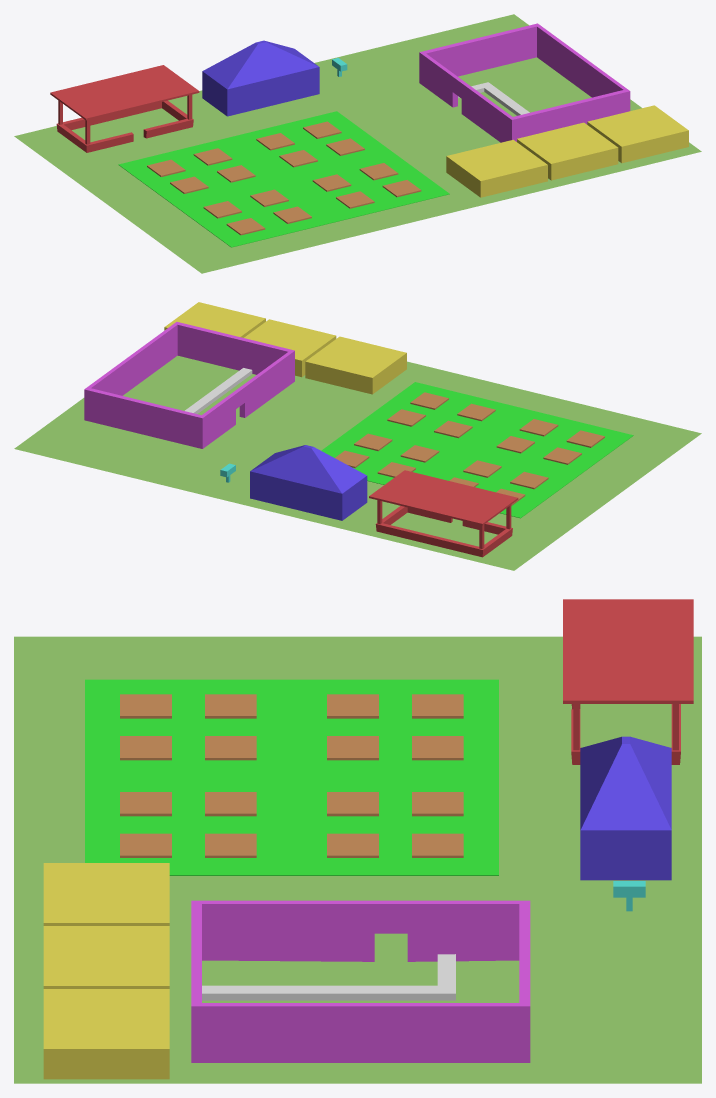
Rendered from blocagem.fbx.
3 views of the same model, one above another, from view 1: azimuth 30°, elevation 25°; view 2: azimuth 150°, elevation 25°; view 3: azimuth 270°, elevation 25° (orthographic). The views are drawn at different scales.
Parts seen in each view (by area): view 1: chao, Cube.028, Cube.017, Cube.016, Cube.015, Cube.010, Cube.005, Cube.024, Cube.019, Cube.021, Cube.020, Cube (+16 smaller); view 2: chao, Cube.028, Cube.017, Cube.016, Cube.015, Cube.010, Cube.019, Cube.024, Cube.005, Cube.020, Cube.021, Cube; view 3: chao, Cube.028, Cube.005, Cube.015, Cube.024, Cube.017, Cube.010, Cube.016, Cube.021, Cube.019, Cube.020, Cube (+16 smaller).
Boxes of the visible parts, left/top/right/bottom form: chao: left=14, top=14, right=701, bottom=273; Cube.028: left=419, top=23, right=630, bottom=142; Cube.017: left=50, top=65, right=199, bottom=152; Cube.016: left=202, top=40, right=319, bottom=116; Cube.015: left=175, top=179, right=340, bottom=247; Cube.010: left=284, top=152, right=449, bottom=220; Cube.005: left=118, top=138, right=283, bottom=205; Cube.024: left=228, top=111, right=392, bottom=178; Cube.019: left=446, top=139, right=547, bottom=197; Cube.021: left=587, top=105, right=688, bottom=163; Cube.020: left=517, top=122, right=618, bottom=180; Cube: left=458, top=82, right=529, bottom=115; chao: left=14, top=355, right=701, bottom=570; Cube.028: left=84, top=322, right=294, bottom=448; Cube.017: left=369, top=470, right=518, bottom=557; Cube.016: left=250, top=445, right=367, bottom=520; Cube.015: left=468, top=408, right=633, bottom=476; Cube.010: left=359, top=382, right=523, bottom=449; Cube.019: left=305, top=336, right=406, bottom=394; Cube.024: left=321, top=423, right=467, bottom=484; Cube.005: left=432, top=450, right=576, bottom=518; Cube.020: left=244, top=319, right=336, bottom=377; Cube.021: left=164, top=302, right=265, bottom=337; Cube: left=185, top=368, right=252, bottom=413; chao: left=14, top=636, right=701, bottom=1083; Cube.028: left=191, top=900, right=530, bottom=1062; Cube.005: left=292, top=679, right=498, bottom=777; Cube.015: left=85, top=679, right=291, bottom=777; Cube.024: left=292, top=777, right=498, bottom=875; Cube.017: left=563, top=599, right=693, bottom=764; Cube.010: left=85, top=777, right=291, bottom=875; Cube.016: left=580, top=736, right=671, bottom=880; Cube.021: left=43, top=989, right=169, bottom=1079; Cube.019: left=43, top=863, right=169, bottom=925; Cube.020: left=43, top=926, right=169, bottom=988; Cube: left=202, top=954, right=455, bottom=1000.
Size of the model in its own units: 5566 by 616 by 3620.
